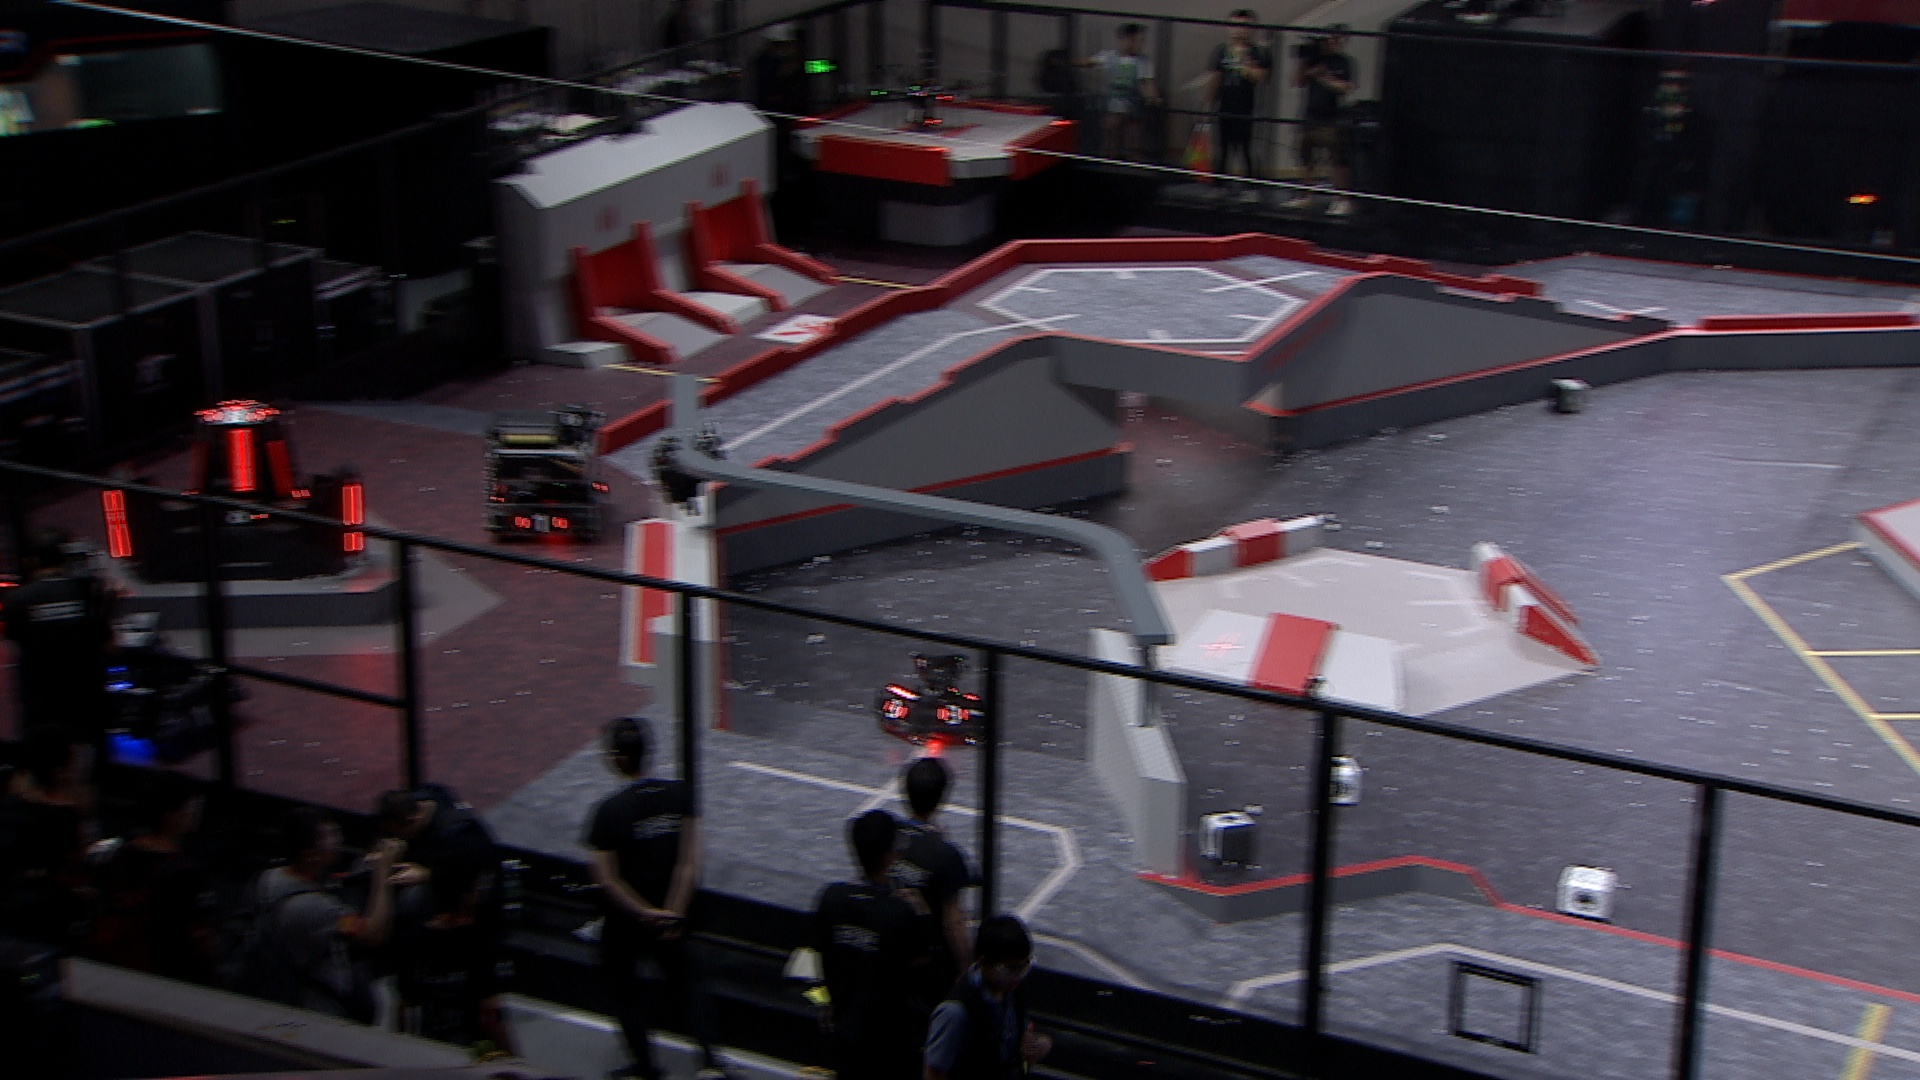armor: (102, 489, 138, 560), (224, 427, 262, 493), (342, 483, 367, 556), (266, 439, 295, 501), (512, 512, 570, 541), (183, 439, 207, 498), (222, 505, 272, 527), (204, 407, 261, 423), (939, 702, 972, 727), (880, 698, 909, 721)
base: (91, 392, 372, 589)
car: (55, 608, 245, 760), (475, 401, 615, 551), (870, 645, 992, 752), (34, 534, 136, 629)
watcher: (651, 427, 733, 520)
